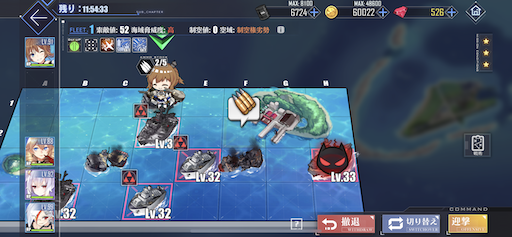boss: (121, 171, 171, 219), (308, 142, 355, 182)
lv3: (121, 171, 171, 219), (173, 135, 220, 182), (133, 104, 182, 147)
